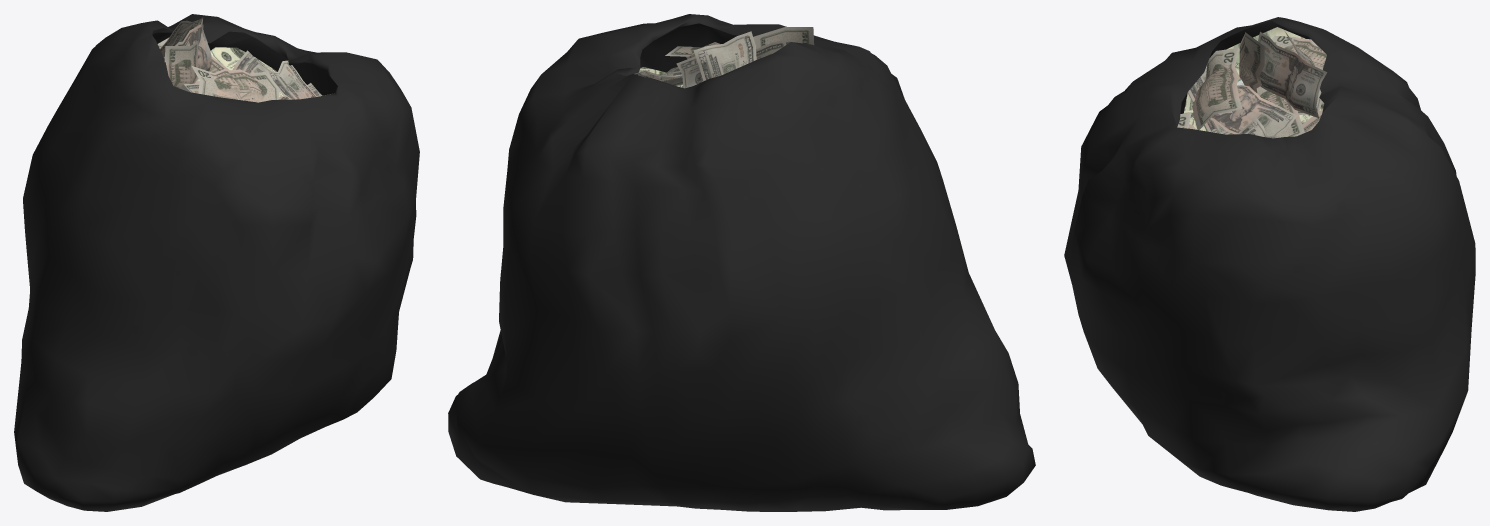
Rendered from money-100k-bag.glb.
The picture shows the model from 3 angles, left to right: view 1: azimuth 30°, elevation 25°; view 2: azimuth 150°, elevation 25°; view 3: azimuth 270°, elevation 25°; orthographic projection. The views are drawn at different scales.
Parts seen in each view (by area): view 1: Cash Sack _binbag2_0, Cash Sack _20_dollar_0, Cash Sack _cash_pile_0; view 2: Cash Sack _binbag2_0, Cash Sack _20_dollar_0; view 3: Cash Sack _binbag2_0, Cash Sack _20_dollar_0, Cash Sack _cash_pile_0.
Boxes of the visible parts, left/top/right/bottom form: Cash Sack _binbag2_0: left=14, top=14, right=419, bottom=511; Cash Sack _20_dollar_0: left=157, top=17, right=321, bottom=102; Cash Sack _cash_pile_0: left=198, top=47, right=330, bottom=96; Cash Sack _binbag2_0: left=448, top=14, right=1035, bottom=511; Cash Sack _20_dollar_0: left=634, top=27, right=814, bottom=88; Cash Sack _binbag2_0: left=1064, top=17, right=1475, bottom=511; Cash Sack _20_dollar_0: left=1177, top=30, right=1327, bottom=138; Cash Sack _cash_pile_0: left=1183, top=27, right=1324, bottom=131.
Bounding box in the file's own units: 0.6758 × 0.606 × 0.5786.
Materials: 3 (3 with a texture image).
